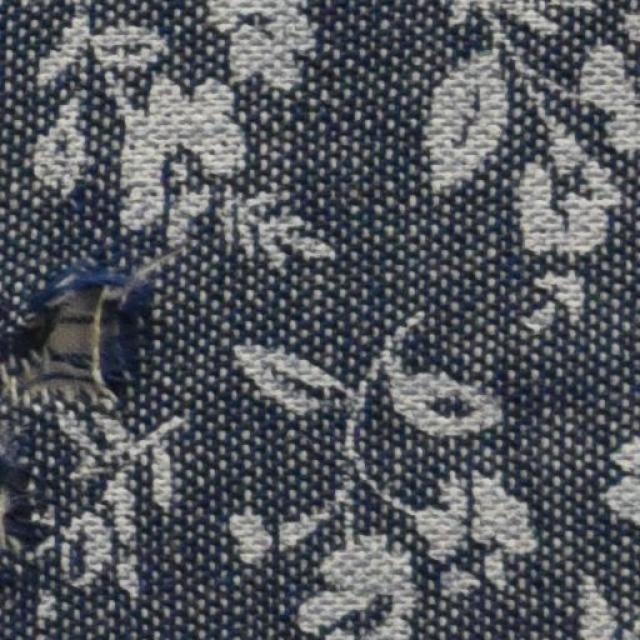Hole: (49, 301, 103, 364)
Snag: (0, 257, 162, 381), (0, 425, 46, 586)
